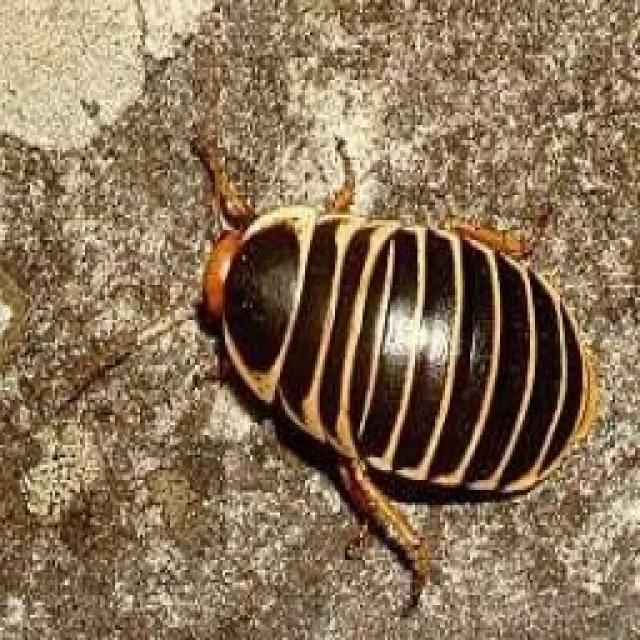cockroach: (175, 121, 600, 611)
